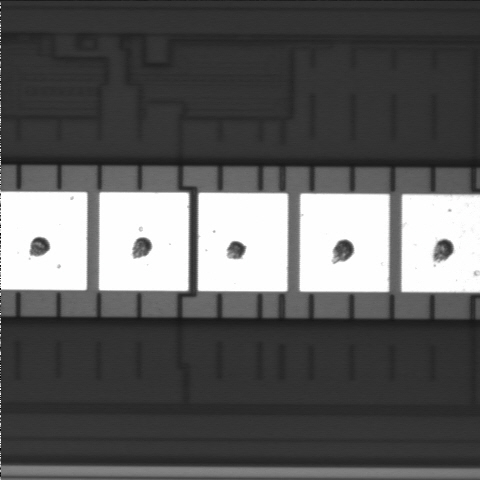pad: (99, 192, 189, 291), (198, 193, 288, 291), (300, 194, 389, 292)
